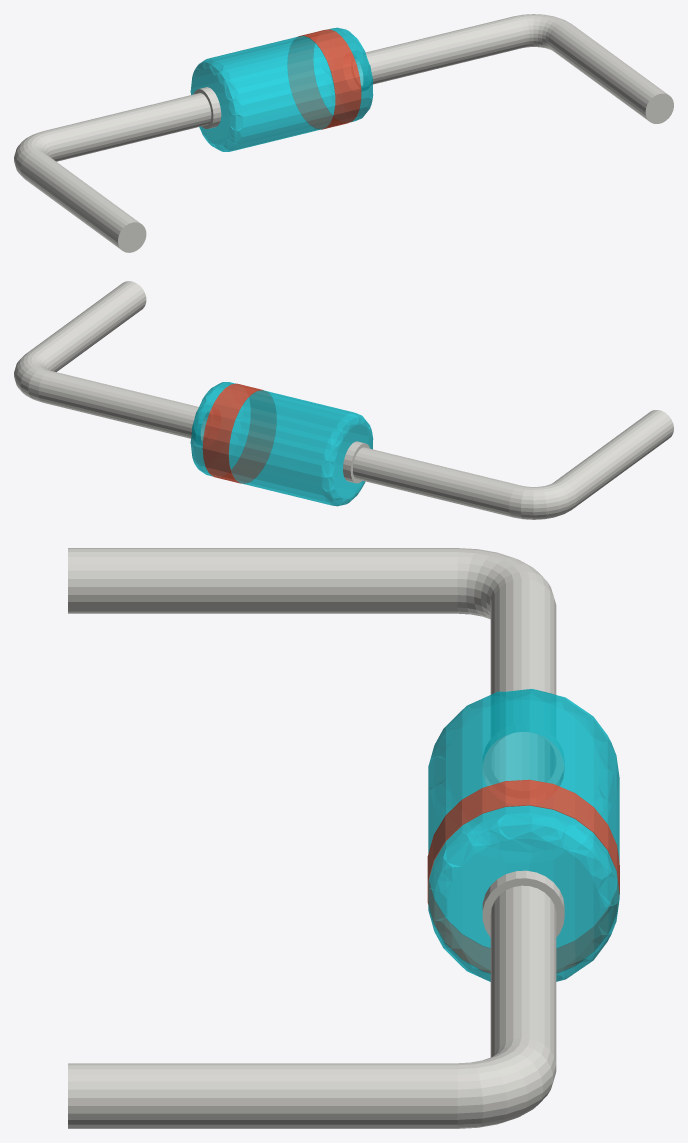
The model's file is D_DO-34_SOD68_P10.16mm_Horizontal.glb.
3 renders of one model, top to bottom at view 1: azimuth 30°, elevation 25°; view 2: azimuth 150°, elevation 25°; view 3: azimuth 270°, elevation 25°, orthographic. The views are drawn at different scales.
Parts seen in each view (by area): view 1: Shape_IndexedFaceSet.012, Shape_IndexedFaceSet.003, Shape_IndexedFaceSet.017, Shape_IndexedFaceSet.010, Shape_IndexedFaceSet.019, Shape_IndexedFaceSet, Shape_IndexedFaceSet.013, Shape_IndexedFaceSet.008, Shape_IndexedFaceSet.014, Shape_IndexedFaceSet.002, Shape_IndexedFaceSet.007, Shape_IndexedFaceSet.018 (+3 smaller); view 2: Shape_IndexedFaceSet.012, Shape_IndexedFaceSet.003, Shape_IndexedFaceSet.017, Shape_IndexedFaceSet.010, Shape_IndexedFaceSet.019, Shape_IndexedFaceSet, Shape_IndexedFaceSet.018, Shape_IndexedFaceSet.013, Shape_IndexedFaceSet.008, Shape_IndexedFaceSet.014, Shape_IndexedFaceSet.002, Shape_IndexedFaceSet.007 (+1 smaller); view 3: Shape_IndexedFaceSet.012, Shape_IndexedFaceSet, Shape_IndexedFaceSet.019, Shape_IndexedFaceSet.017, Shape_IndexedFaceSet.003, Shape_IndexedFaceSet.014, Shape_IndexedFaceSet.006, Shape_IndexedFaceSet.007, Shape_IndexedFaceSet.013, Shape_IndexedFaceSet.010, Shape_IndexedFaceSet.002, Shape_IndexedFaceSet.018 (+2 smaller).
Boxes of the visible parts, x1=… form: Shape_IndexedFaceSet.012: x1=195, y1=36, x2=335, y2=151; Shape_IndexedFaceSet.003: x1=354, y1=16, x2=525, y2=85; Shape_IndexedFaceSet.017: x1=44, y1=93, x2=211, y2=161; Shape_IndexedFaceSet.010: x1=287, y1=29, x2=361, y2=129; Shape_IndexedFaceSet.019: x1=20, y1=151, x2=139, y2=249; Shape_IndexedFaceSet: x1=548, y1=22, x2=667, y2=120; Shape_IndexedFaceSet.013: x1=190, y1=58, x2=242, y2=151; Shape_IndexedFaceSet.008: x1=313, y1=28, x2=368, y2=122; Shape_IndexedFaceSet.014: x1=191, y1=70, x2=229, y2=144; Shape_IndexedFaceSet.002: x1=515, y1=14, x2=570, y2=50; Shape_IndexedFaceSet.007: x1=321, y1=28, x2=373, y2=120; Shape_IndexedFaceSet.018: x1=14, y1=131, x2=54, y2=176; Shape_IndexedFaceSet.012: x1=229, y1=390, x2=368, y2=505; Shape_IndexedFaceSet.003: x1=38, y1=370, x2=209, y2=440; Shape_IndexedFaceSet.017: x1=353, y1=447, x2=520, y2=517; Shape_IndexedFaceSet.010: x1=202, y1=383, x2=276, y2=483; Shape_IndexedFaceSet.019: x1=555, y1=410, x2=673, y2=508; Shape_IndexedFaceSet: x1=26, y1=281, x2=146, y2=371; Shape_IndexedFaceSet.018: x1=509, y1=481, x2=576, y2=519; Shape_IndexedFaceSet.013: x1=321, y1=412, x2=373, y2=506; Shape_IndexedFaceSet.008: x1=195, y1=382, x2=250, y2=476; Shape_IndexedFaceSet.014: x1=334, y1=424, x2=372, y2=498; Shape_IndexedFaceSet.002: x1=14, y1=352, x2=49, y2=401; Shape_IndexedFaceSet.007: x1=190, y1=382, x2=242, y2=474; Shape_IndexedFaceSet.012: x1=428, y1=690, x2=619, y2=947; Shape_IndexedFaceSet: x1=68, y1=1063, x2=457, y2=1128; Shape_IndexedFaceSet.019: x1=68, y1=548, x2=457, y2=613; Shape_IndexedFaceSet.017: x1=490, y1=579, x2=556, y2=782; Shape_IndexedFaceSet.003: x1=490, y1=885, x2=556, y2=1063; Shape_IndexedFaceSet.014: x1=447, y1=700, x2=599, y2=837; Shape_IndexedFaceSet.006: x1=447, y1=838, x2=600, y2=970; Shape_IndexedFaceSet.007: x1=428, y1=813, x2=619, y2=981; Shape_IndexedFaceSet.013: x1=428, y1=689, x2=618, y2=863; Shape_IndexedFaceSet.010: x1=427, y1=779, x2=619, y2=973; Shape_IndexedFaceSet.002: x1=457, y1=1038, x2=556, y2=1128; Shape_IndexedFaceSet.018: x1=457, y1=548, x2=553, y2=619.
Size of the model in its own units: 4.21 by 0.6326 by 1.81.
